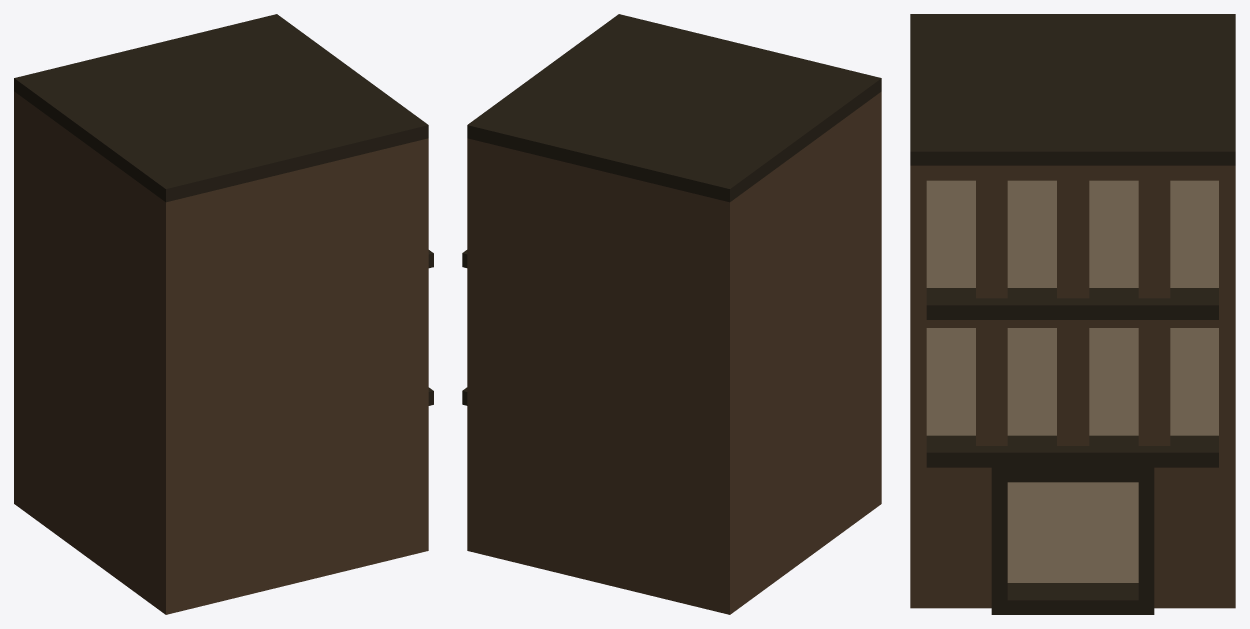
File: 8WindowBuilding.fbx
3 renders of one model, left to right at view 1: azimuth 30°, elevation 25°; view 2: azimuth 150°, elevation 25°; view 3: azimuth 270°, elevation 25°, orthographic. The views are drawn at different scales.
Visible parts, largest first — view 1: Cube; view 2: Cube; view 3: Cube.
Boxes of the visible parts, bbox=[...] form: Cube: bbox=[14, 14, 433, 614]; Cube: bbox=[462, 14, 881, 614]; Cube: bbox=[910, 14, 1235, 614].
Size of the model in its own units: 2098 by 3096 by 2000.
